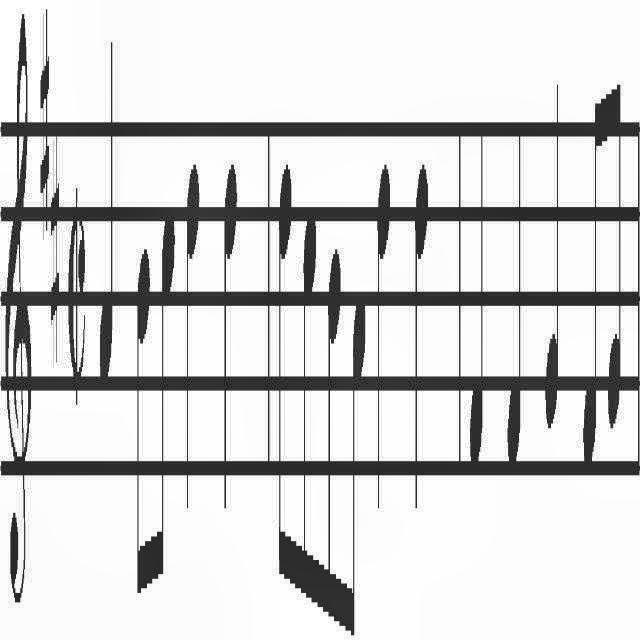Bass-clef: (4, 5, 32, 603)
Diez: (50, 140, 60, 368), (40, 8, 49, 240)
Eighth-note: (152, 202, 175, 612), (296, 199, 316, 623), (342, 290, 366, 640), (321, 246, 342, 634), (582, 82, 602, 474), (606, 70, 624, 447), (278, 156, 292, 584), (137, 238, 151, 602)
Quarter-note: (469, 118, 485, 490), (414, 158, 430, 526), (222, 160, 238, 526), (506, 119, 522, 485), (544, 75, 560, 441), (184, 161, 200, 524), (99, 33, 115, 390), (376, 158, 390, 526)
